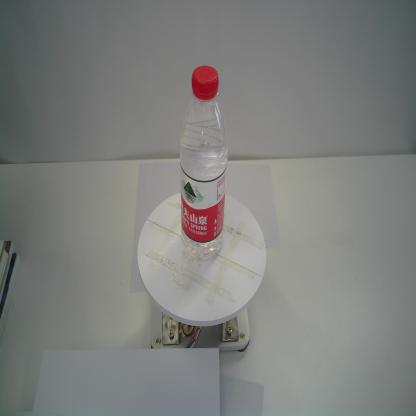Drink: (178, 64, 228, 260)
